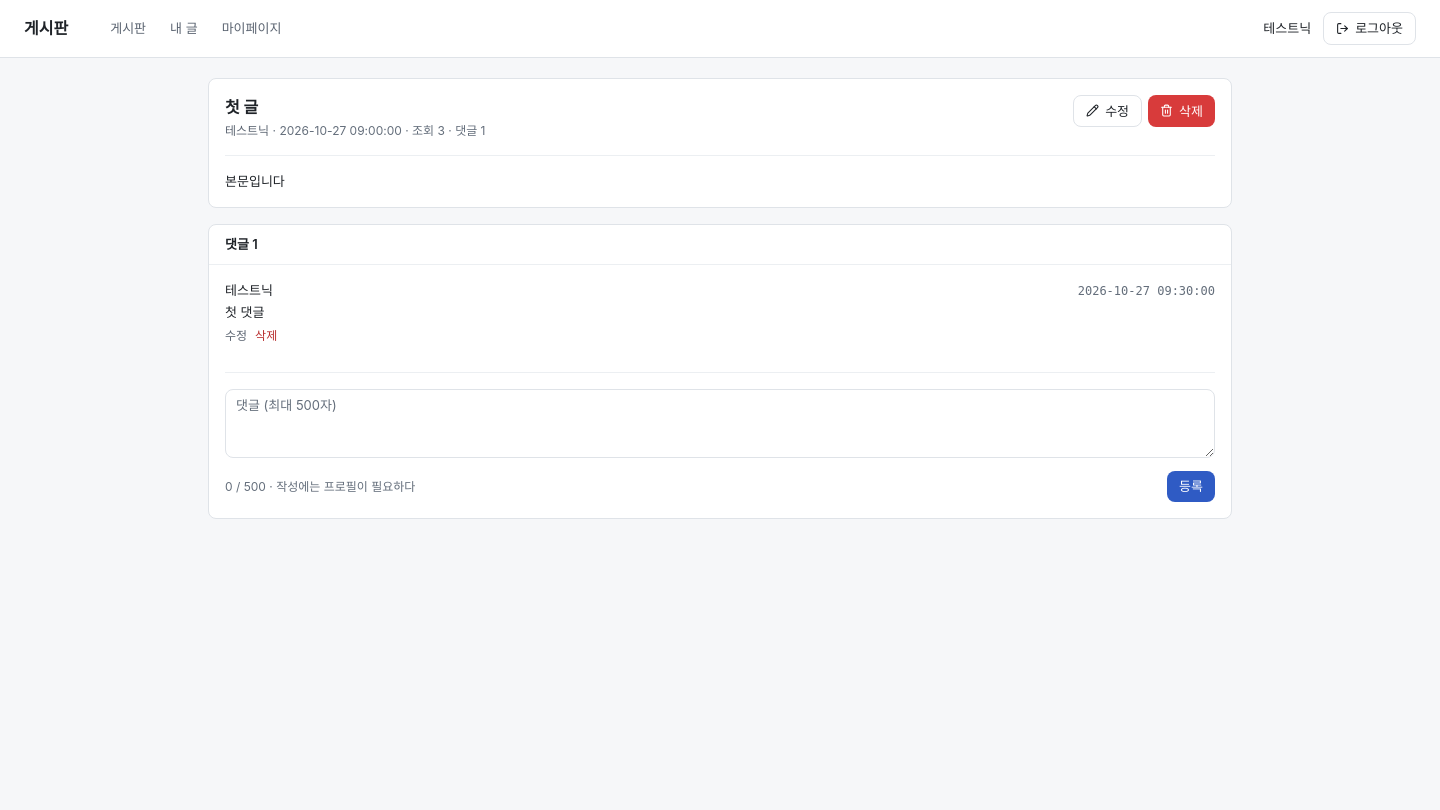
Scenario: 화면마다 보이는 문구 › 글 상세 — 댓글 수정 중 — 검사 목록에 걸리는 것이 없다
Step 1. Click the button "수정" below "첫 댓글" → (236, 336), box [225,328,247,344]
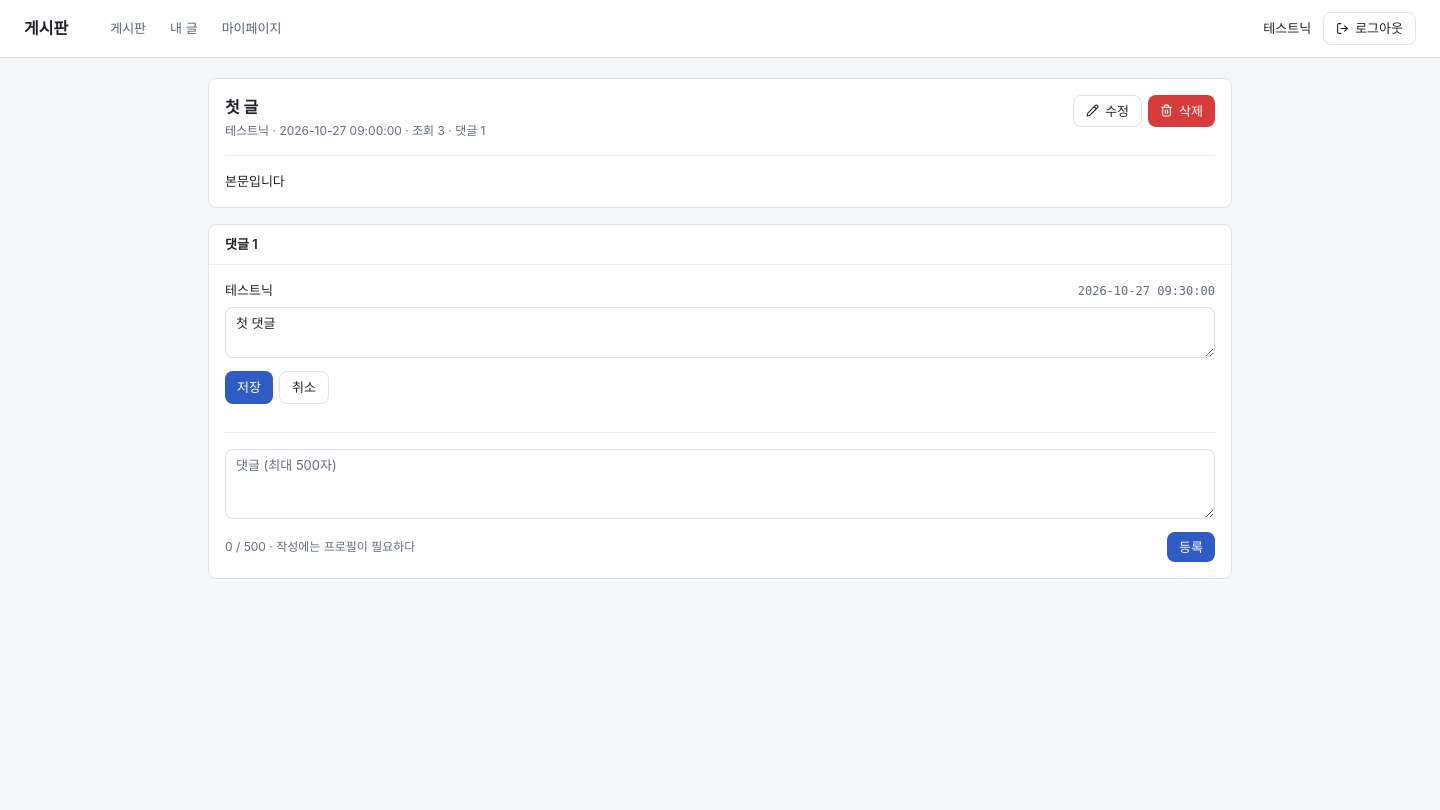
Expected: the button "저장" is shown, [225,371,273,404]
